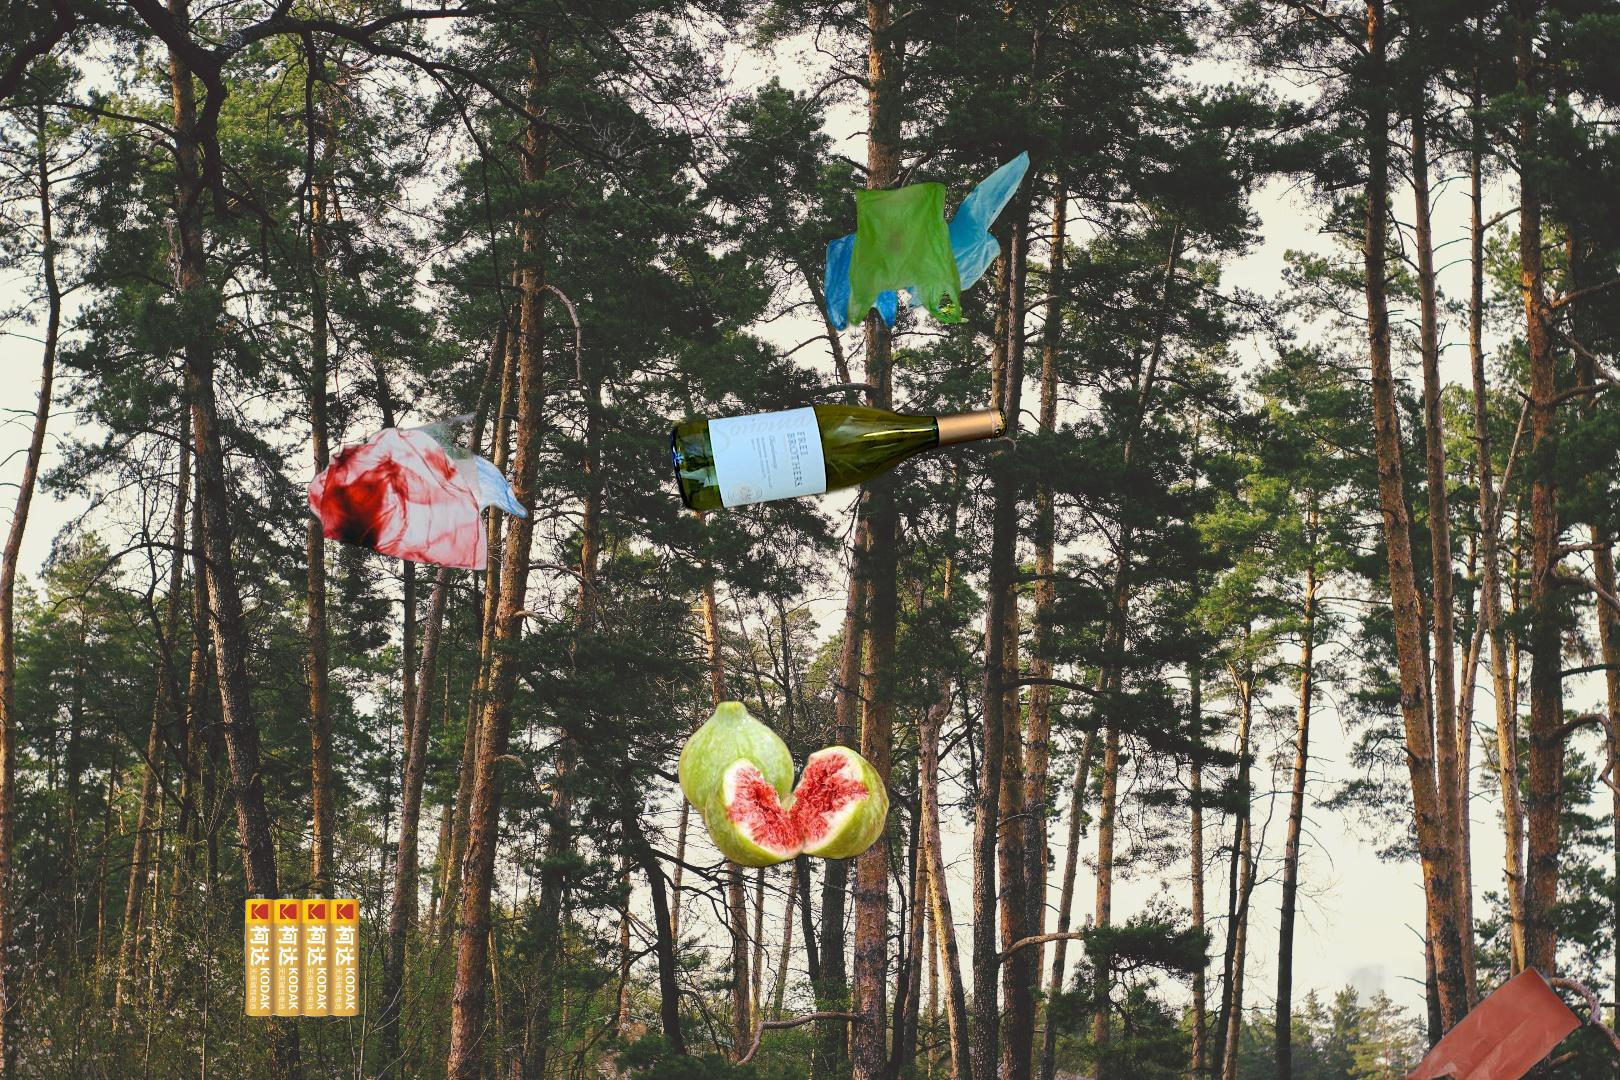battery: (242, 891, 362, 1020)
biological: (675, 697, 893, 871)
glass: (665, 398, 1088, 609)
plastic-bag: (822, 147, 1032, 334), (304, 407, 532, 574), (1328, 940, 1584, 1080)
